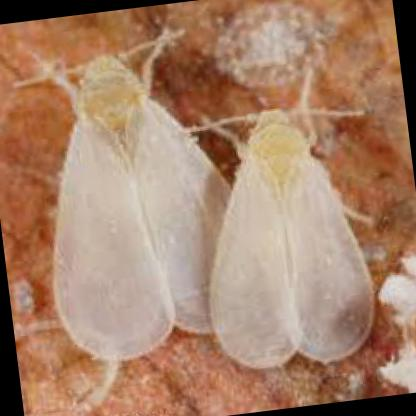whitefly: (53, 51, 228, 359), (208, 110, 373, 362)
